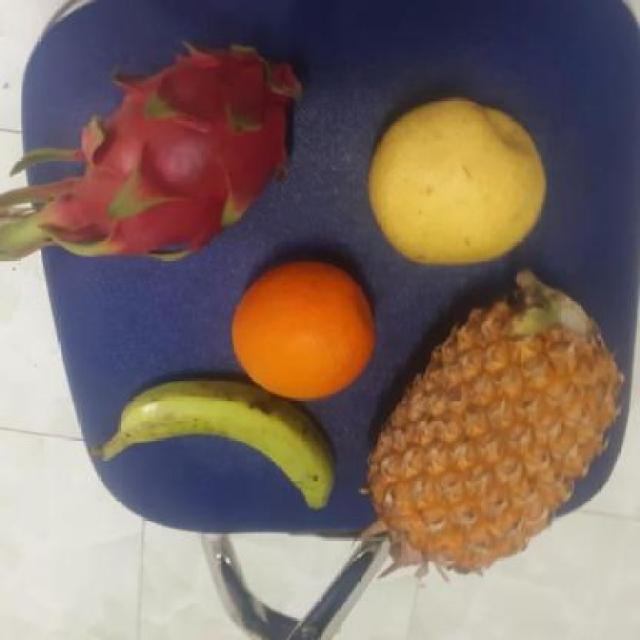banana: (111, 378, 347, 525)
dragon fruit: (51, 41, 314, 262)
oren: (229, 258, 380, 397)
pear: (363, 95, 555, 267)
pineapple: (368, 283, 626, 565)
